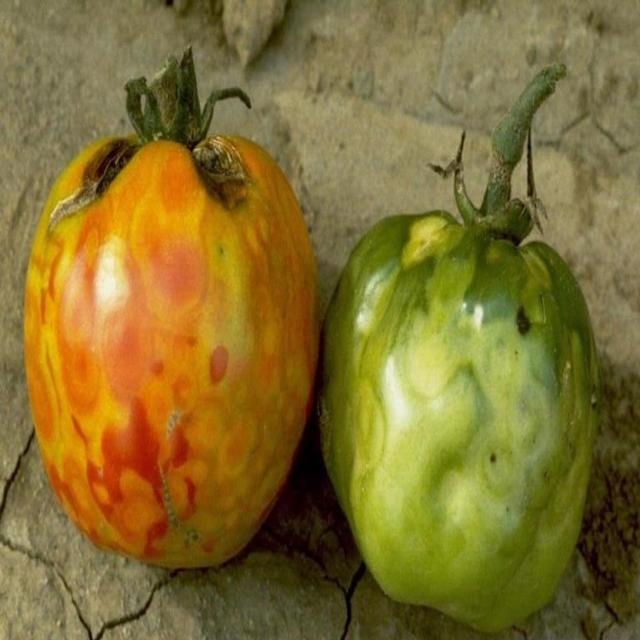Spotted wilt Virus Fruit: (82, 94, 313, 147)
